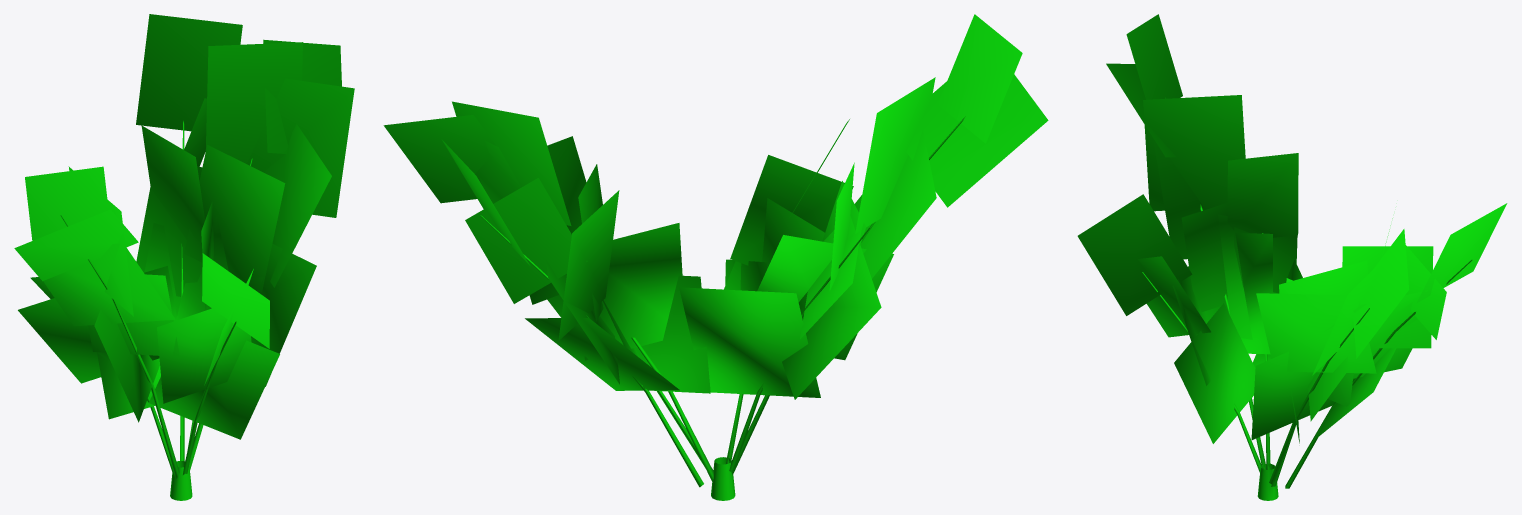
File: shrub_b.glb
The picture shows the model from 3 angles, left to right: view 1: azimuth 30°, elevation 25°; view 2: azimuth 150°, elevation 25°; view 3: azimuth 270°, elevation 25°; orthographic projection. The views are drawn at different scales.
Visible parts, largest first — view 1: shrub_b.1, shrub_b.0; view 2: shrub_b.1, shrub_b.0; view 3: shrub_b.1, shrub_b.0.
Part boxes in pixels (x1,y1,x2,y2): shrub_b.1: (14, 14, 354, 439); shrub_b.0: (60, 121, 252, 500); shrub_b.1: (383, 14, 1048, 399); shrub_b.0: (480, 116, 965, 500); shrub_b.1: (1077, 14, 1507, 443); shrub_b.0: (1142, 98, 1472, 500).
Bounding box in the file's own units: 3.36 × 2.9 × 2.89.
